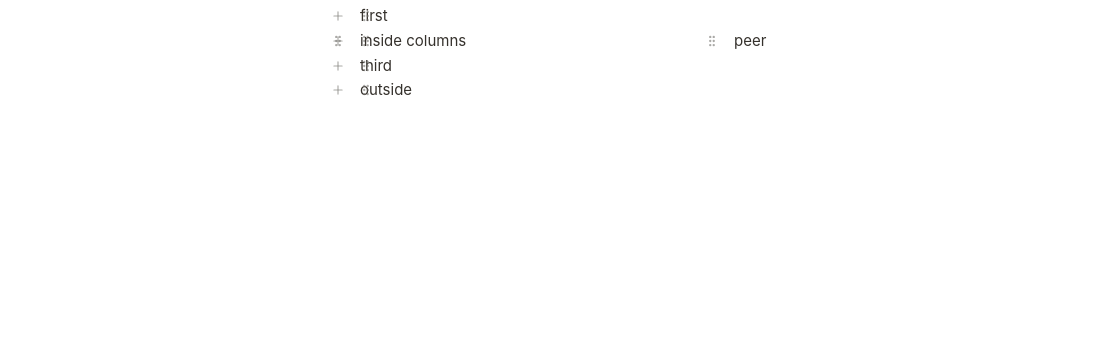
Test: multi-block context menu › uses the selected top-level columns row for nested targets, but keeps outside targets single
This screenshot has width=1107, height=340.
Press the mouse on the element showing "third" at (373, 66), box [354,54,392,78]
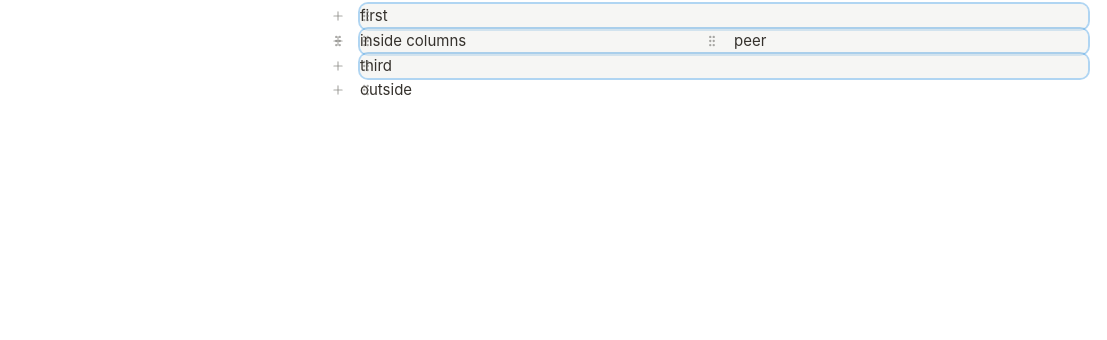
Expected: the number of elements with class "obe-row-selected" is 3, [360,4,1088,29]; [360,29,1088,54]; [360,54,1088,78]
Press the mouse on the field labelled "inside columns" at (413, 40), box [360,31,466,50]
Right-click the field labelled "inside columns" at (413, 40), box [360,31,466,50]
Expected: the text "Select block" is not shown
Press Escape
Press the mouse on the element showing "outside" at (383, 90), box [354,78,412,102]
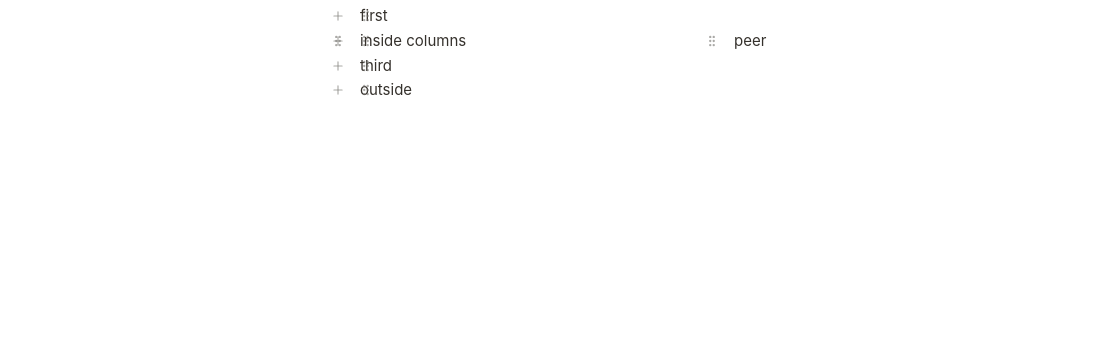
Right-click the element showing "outside" at (383, 90), box [354,78,412,102]
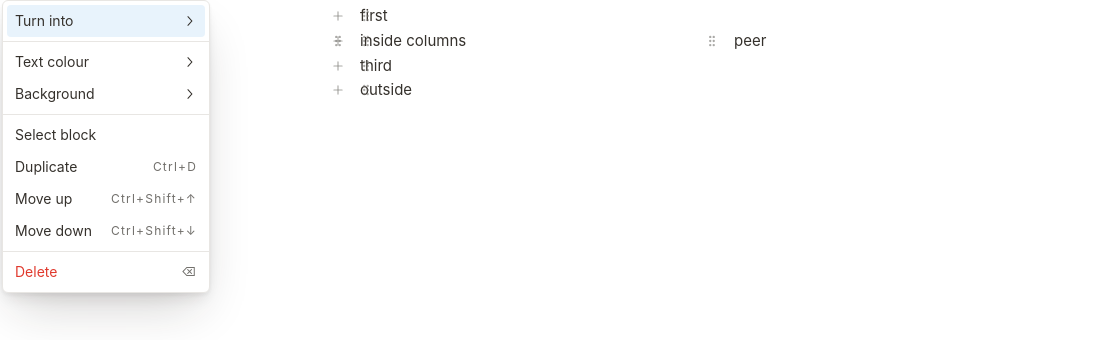
Now the menu item "Turn into" is shown, box [7,5,205,37]
Now the menu item "Select block" is shown, box [15,126,96,143]
